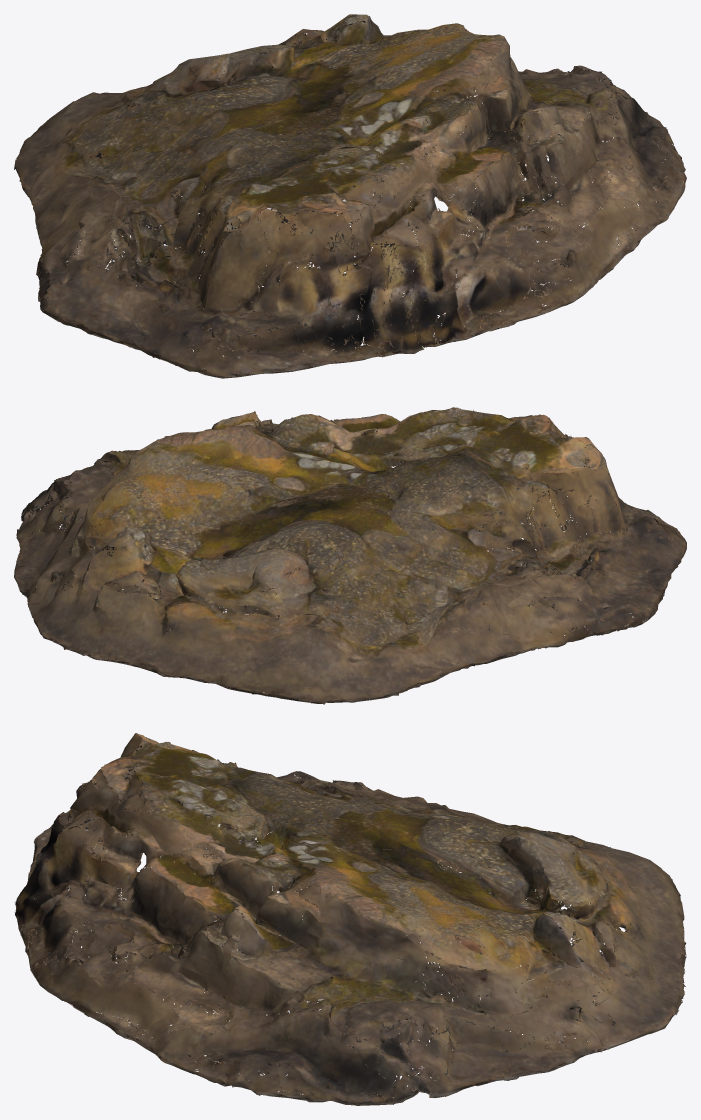
Rendered from Rocky-Surface(Draco).glb.
3 views of the same model, one above another, from view 1: azimuth 30°, elevation 25°; view 2: azimuth 150°, elevation 25°; view 3: azimuth 270°, elevation 25° (orthographic). The views are drawn at different scales.
Visible parts, largest first — view 1: Mesh_0.001; view 2: Mesh_0.001; view 3: Mesh_0.001.
Part boxes in pixels (x1,y1,x2,y2): Mesh_0.001: (14, 14, 686, 378); Mesh_0.001: (14, 407, 686, 704); Mesh_0.001: (14, 733, 686, 1105).
Size of the model in its own units: 1.99 by 0.3673 by 1.76.
1 material, 1 textured.
